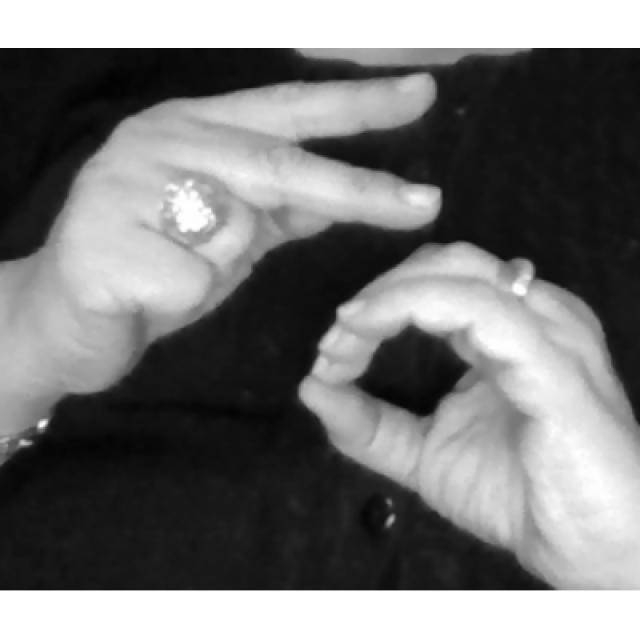O--: (43, 72, 640, 593)
